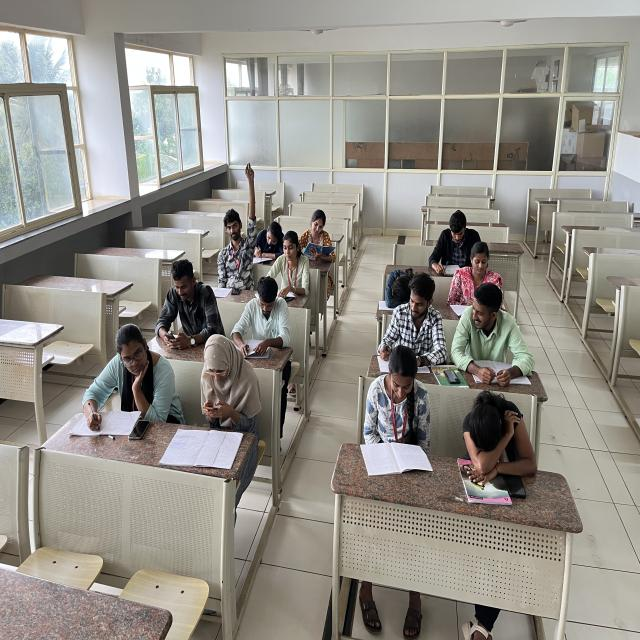Hand Rising: (214, 162, 260, 276)
Reading: (349, 345, 427, 467), (426, 206, 483, 278), (298, 210, 340, 264)
Sleeping: (458, 390, 542, 481), (375, 257, 422, 310)
Using Phone: (152, 252, 232, 347), (192, 332, 264, 431)
Writing: (77, 316, 182, 432)
